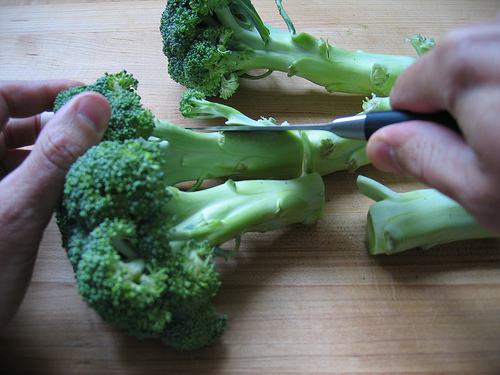broccoli: (53, 135, 326, 354), (156, 0, 435, 101)
